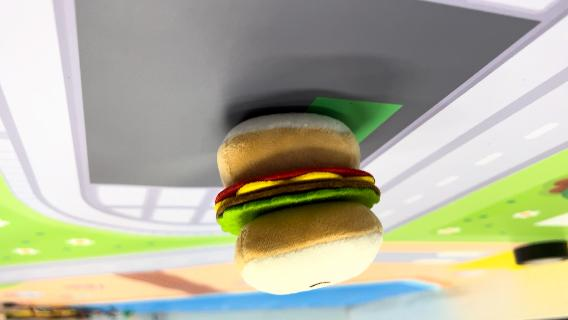sandwich: (211, 109, 387, 295)
